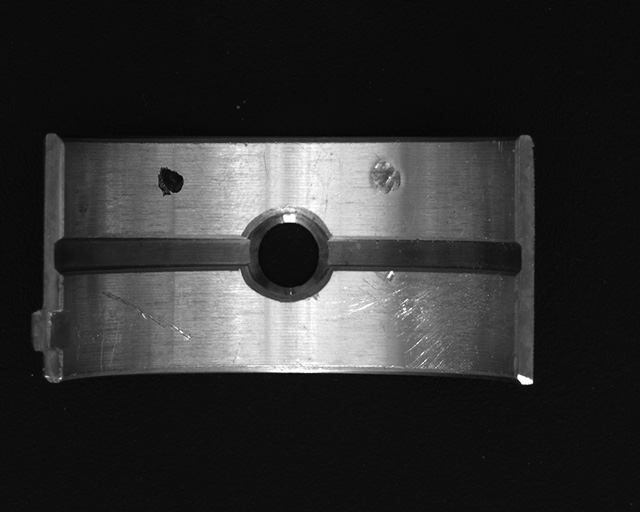blot: (157, 166, 185, 197)
bruise: (368, 153, 402, 195)
gap: (321, 237, 523, 278), (54, 235, 249, 272)
hole: (244, 207, 330, 302)
nick: (101, 290, 193, 343)
scratch: (325, 270, 505, 374)
